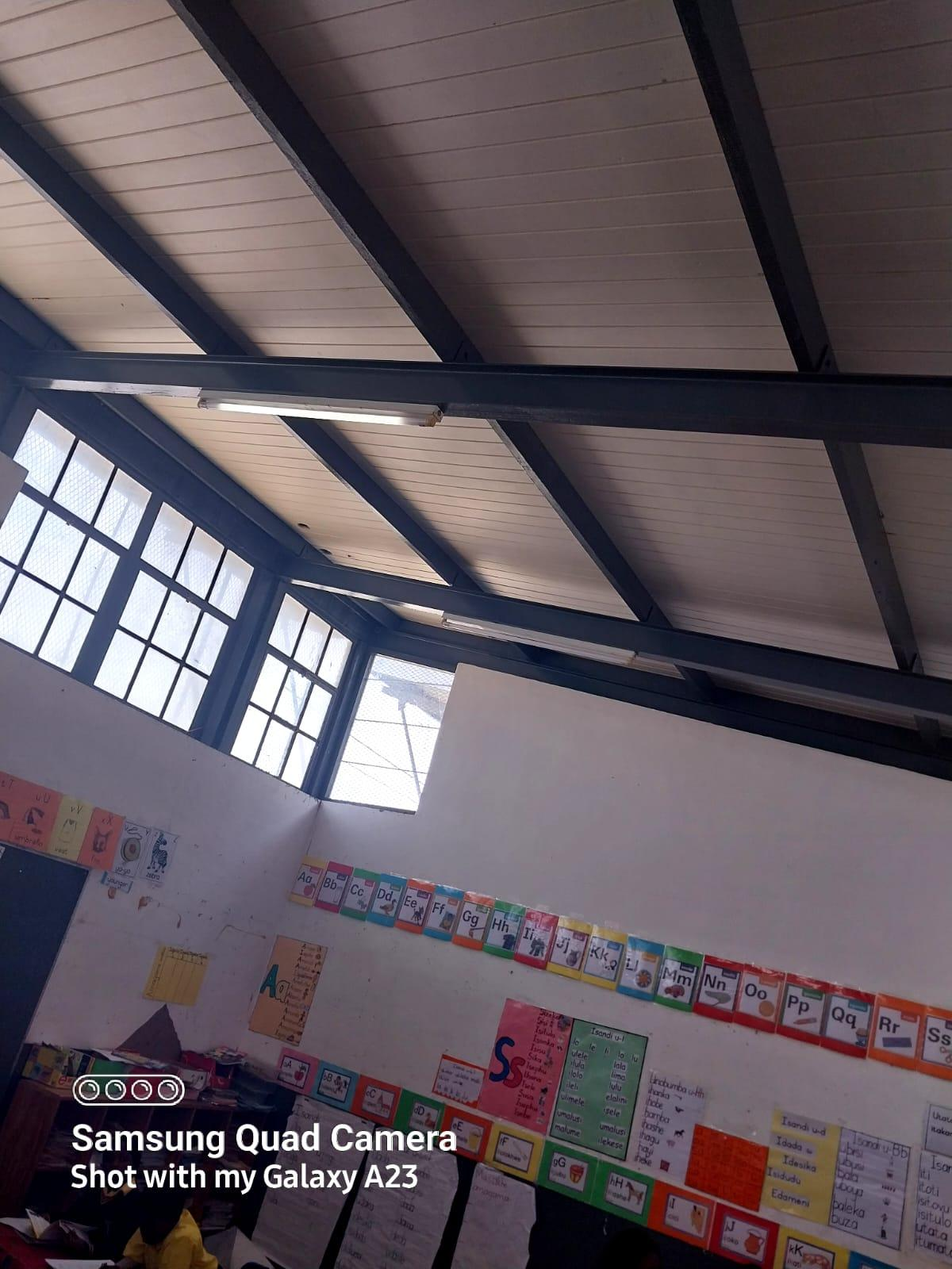light: (195, 390, 444, 427)
